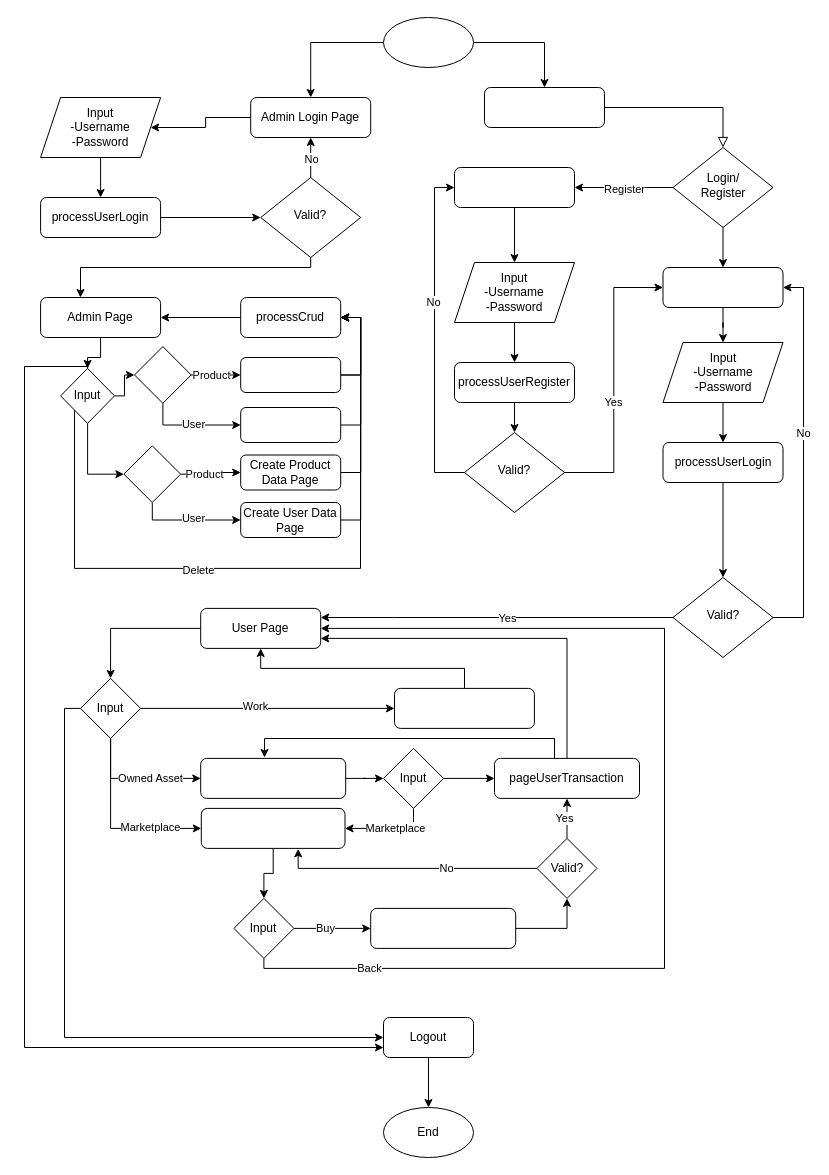
The diagram is 829 pixels wide and 1175 high, and some of its shapes have lost their labels. The shapes that lost their labels are listed below. From the top down, each one's centre as x and y in pixels, then its label:
the point at 428,42: Start
the point at 544,107: Landing Page
the point at 514,187: Register Page
the point at 722,287: Login Page
the point at 162,374: Update
the point at 290,374: Update Product Data Page
the point at 290,424: Update User Data Page
the point at 152,473: Create
the point at 464,707: processAddUserMoney
the point at 273,777: Page Owned Assets
the point at 272,827: Digital AssetsPage
the point at 443,927: processUserBuyProduct
